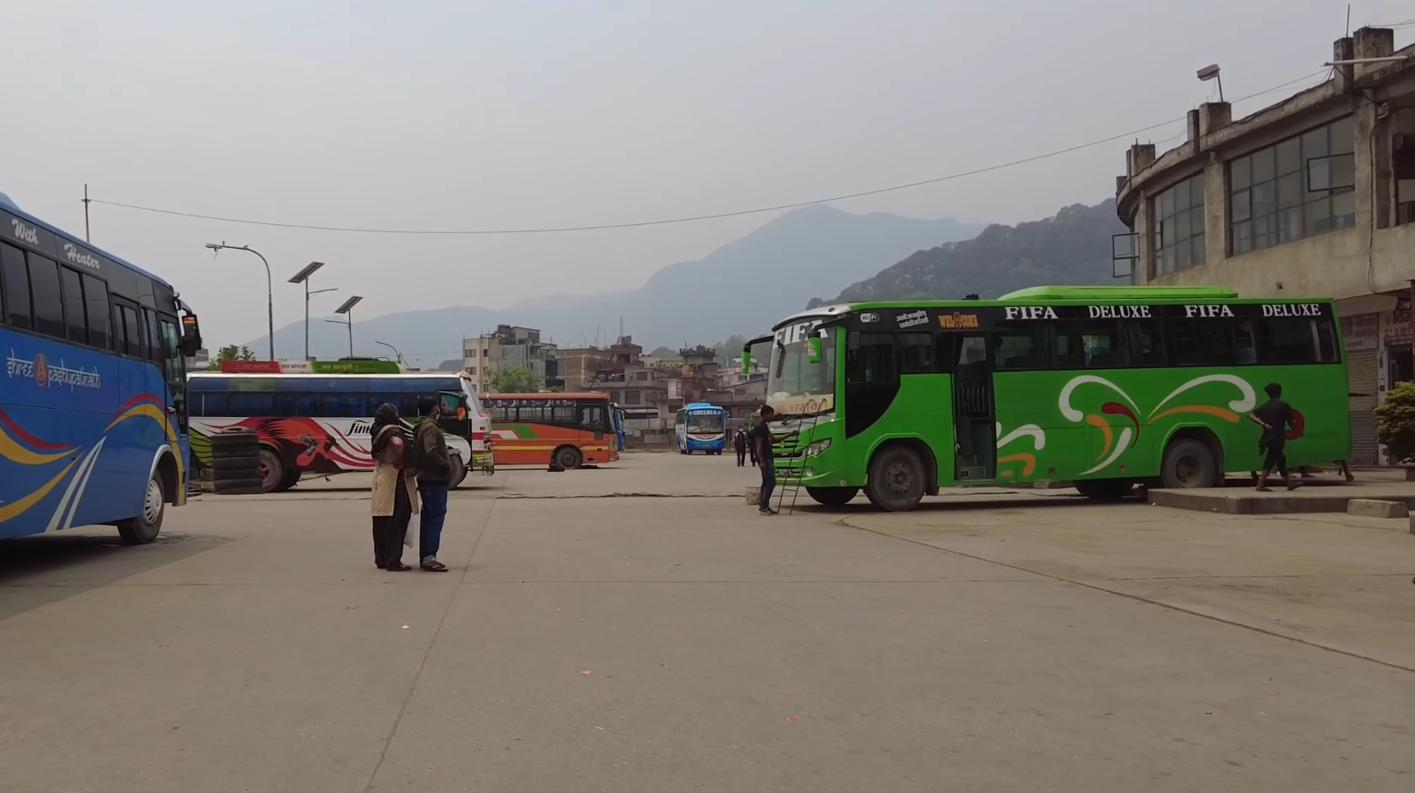bus: (739, 277, 1353, 518), (181, 354, 499, 501), (480, 387, 630, 477), (673, 398, 733, 464)
